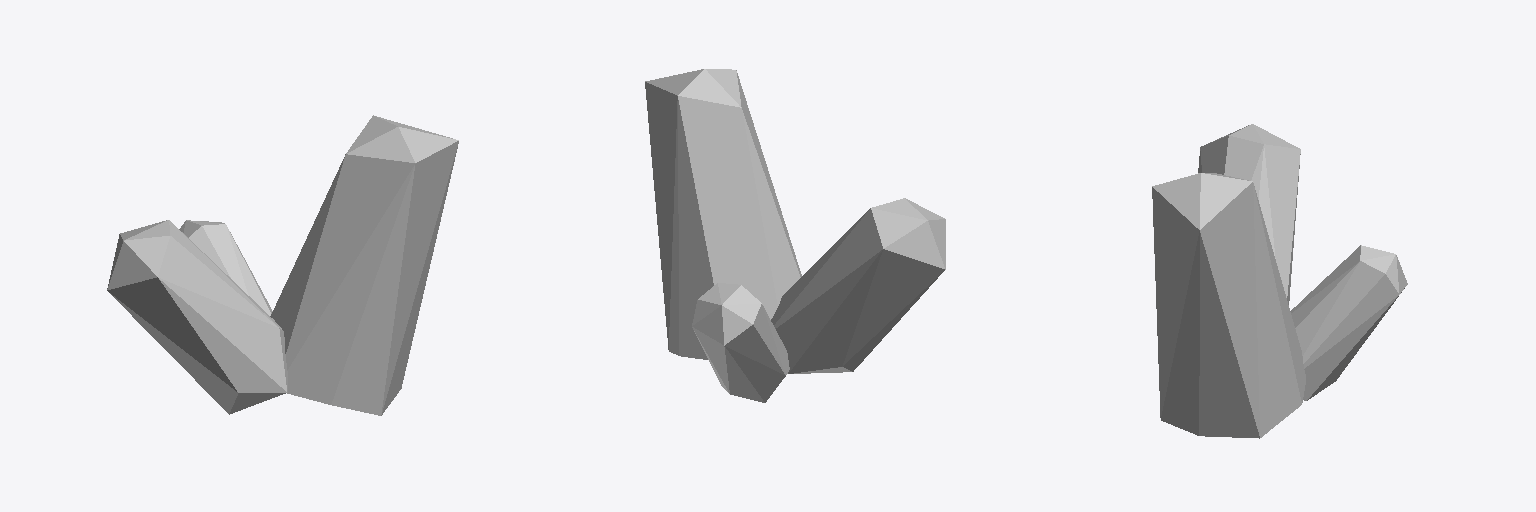
File: Rock_2.obj
3 views of the same model, side by side, from view 1: azimuth 30°, elevation 25°; view 2: azimuth 150°, elevation 25°; view 3: azimuth 270°, elevation 25° (orthographic).
Visible parts, largest first — view 1: Cube.022; view 2: Cube.022; view 3: Cube.022.
Part boxes in pixels (x1,y1,x2,y2): Cube.022: (107,115,458,415); Cube.022: (645,69,945,402); Cube.022: (1152,124,1407,438).
Bounding box in the file's own units: 1.27 × 0.9932 × 0.864.